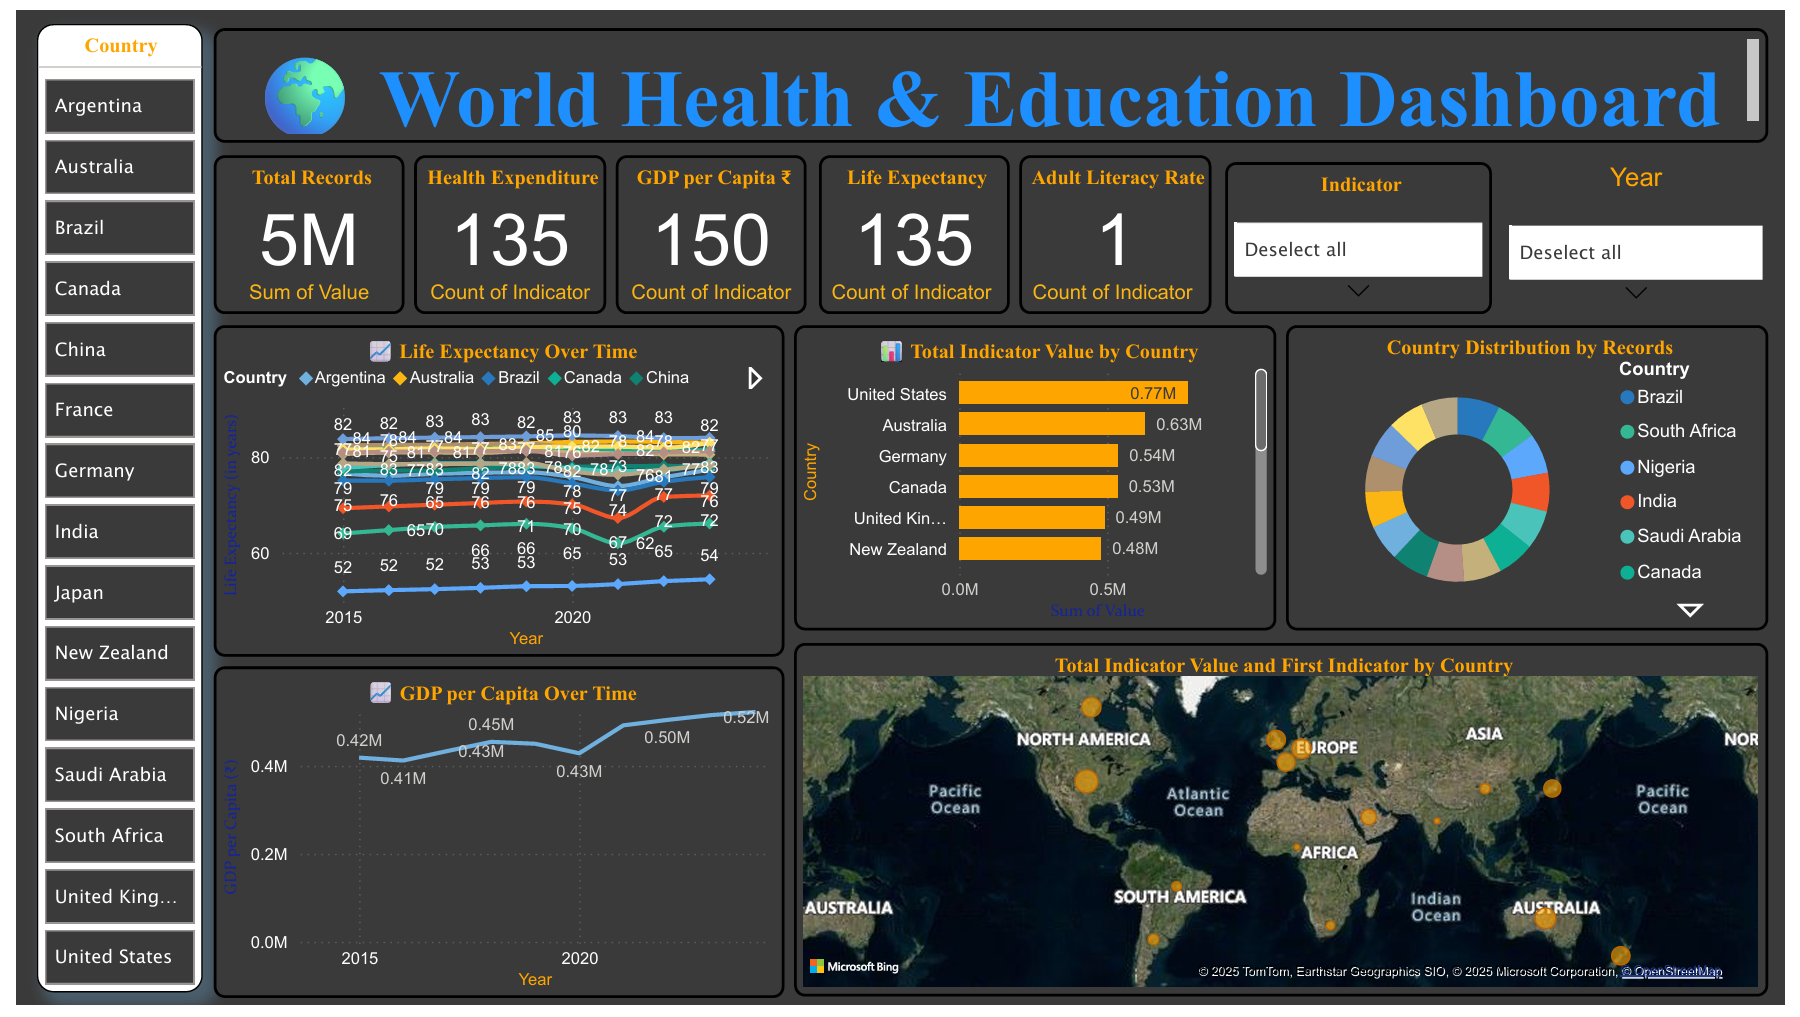

This screenshot's page, from the dashboard's own definition file:
{"tool":"powerbi","page":{"name":"Page 1","canvas":[1280,720],"ordinal":0},"visuals":[{"type":"advancedSlicerVisual","fields":{"Values":["Global Health & Education.Country "]},"box":[15,10,120,701.2],"z":0},{"type":"advancedSlicerVisual","fields":{"Values":["Global Health & Education.Indicator"]},"box":[875,110,193.2,110],"z":1000,"group":"g1"},{"type":"lineChart","title":"📈\tLife Expectancy Over Time","fields":{"Category":["Global Health & Education.Year"],"Y":["Avg(Global Health & Education.Value)"],"Series":["Global Health & Education.Country"]},"box":[142.5,227.5,413.8,240],"z":1000},{"type":"advancedSlicerVisual","fields":{"Values":["Global Health & Education.Year"]},"box":[1075.8,110.3,193.2,110],"z":2000,"group":"g1"},{"type":"lineChart","title":"📈\tGDP per Capita Over Time","fields":{"Category":["Global Health & Education.Year"],"Y":["Sum(Global Health & Education.Value)"]},"box":[142.5,475,413.8,240],"z":2000},{"type":"card","title":"Total Records","fields":{"Values":["Sum(Global Health & Education.Value)"]},"box":[142.5,105,138,115],"z":3000},{"type":"map","title":"Total Indicator Value and First Indicator by Country","fields":{"Category":["Global Health & Education.Country"],"Size":["Sum(Global Health & Education.Value)"]},"box":[562.5,457.5,705,256.2],"z":4000},{"type":"card","title":"Life Expectancy ","fields":{"Values":["CountNonNull(Global Health & Education.Indicator)"]},"box":[580.5,105,138.6,115.3],"z":5000},{"type":"clusteredBarChart","title":"📊\tTotal Indicator Value by Country","fields":{"Category":["Global Health & Education.Country"],"Y":["Sum(Global Health & Education.Value)"]},"box":[562.5,227.5,349,221.2],"z":6000},{"type":"card","title":"GDP per Capita ₹ ","fields":{"Values":["CountNonNull(Global Health & Education.Indicator)"]},"box":[433.7,105,138.6,115.3],"z":7000},{"type":"card","title":" Health Expenditure","fields":{"Values":["CountNonNull(Global Health & Education.Indicator)"]},"box":[288.3,105,138.6,115.3],"z":8000},{"type":"textbox","box":[142.5,12.5,1125,83.8],"z":9000},{"type":"group","id":"g1","title":"Group 2","box":[875,110,393.8,110],"z":10000},{"type":"card","title":"Adult Literacy Rate","fields":{"Values":["Count(Global Health & Education.Indicator)"]},"box":[726,105,138.6,115.3],"z":11000},{"type":"donutChart","title":"Country Distribution by Records","fields":{"Category":["Global Health & Education.Country"],"Y":["Sum(Global Health & Education.Year)"]},"box":[918.8,227.5,348.8,221.2],"z":12000}]}

Visuals, with their boxes in screenshot pixels (x1, y1, x2, y2), scaled from the page's 1280x720 canvas onto the 1800x1017 screenshot:
advancedSlicerVisual - Global Health & Education.Country : bbox=(21, 14, 190, 1005)
advancedSlicerVisual - Global Health & Education.Indicator: bbox=(1230, 155, 1502, 311)
"📈	Life Expectancy Over Time" lineChart: bbox=(200, 321, 782, 660)
advancedSlicerVisual - Global Health & Education.Year: bbox=(1513, 156, 1785, 311)
"📈	GDP per Capita Over Time" lineChart: bbox=(200, 671, 782, 1010)
"Total Records" card: bbox=(200, 148, 394, 311)
"Total Indicator Value and First Indicator by Country" map: bbox=(791, 646, 1782, 1008)
"Life Expectancy " card: bbox=(816, 148, 1011, 311)
"📊	Total Indicator Value by Country" clusteredBarChart: bbox=(791, 321, 1282, 634)
"GDP per Capita ₹ " card: bbox=(610, 148, 805, 311)
" Health Expenditure" card: bbox=(405, 148, 600, 311)
textbox: bbox=(200, 18, 1782, 136)
"Group 2" group: bbox=(1230, 155, 1784, 311)
"Adult Literacy Rate" card: bbox=(1021, 148, 1216, 311)
"Country Distribution by Records" donutChart: bbox=(1292, 321, 1783, 634)
